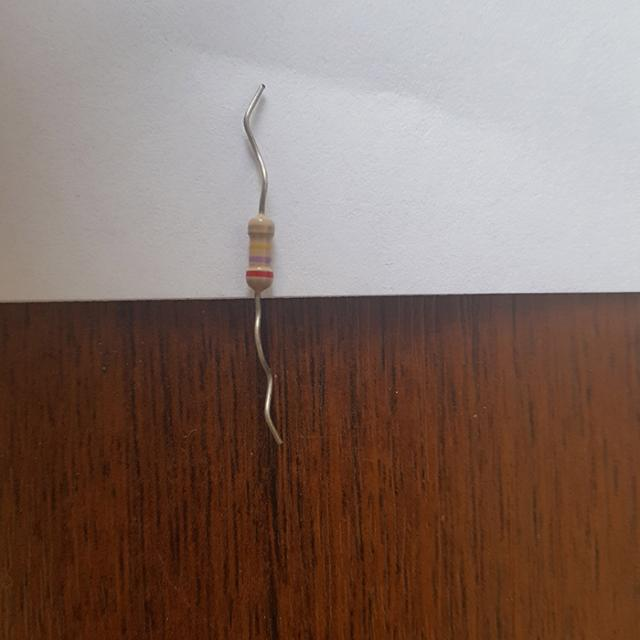gold: (249, 223, 273, 230)
red: (246, 271, 272, 277)
resistor: (238, 212, 281, 294)
violet: (249, 256, 271, 261)
yellow: (249, 243, 271, 249)
